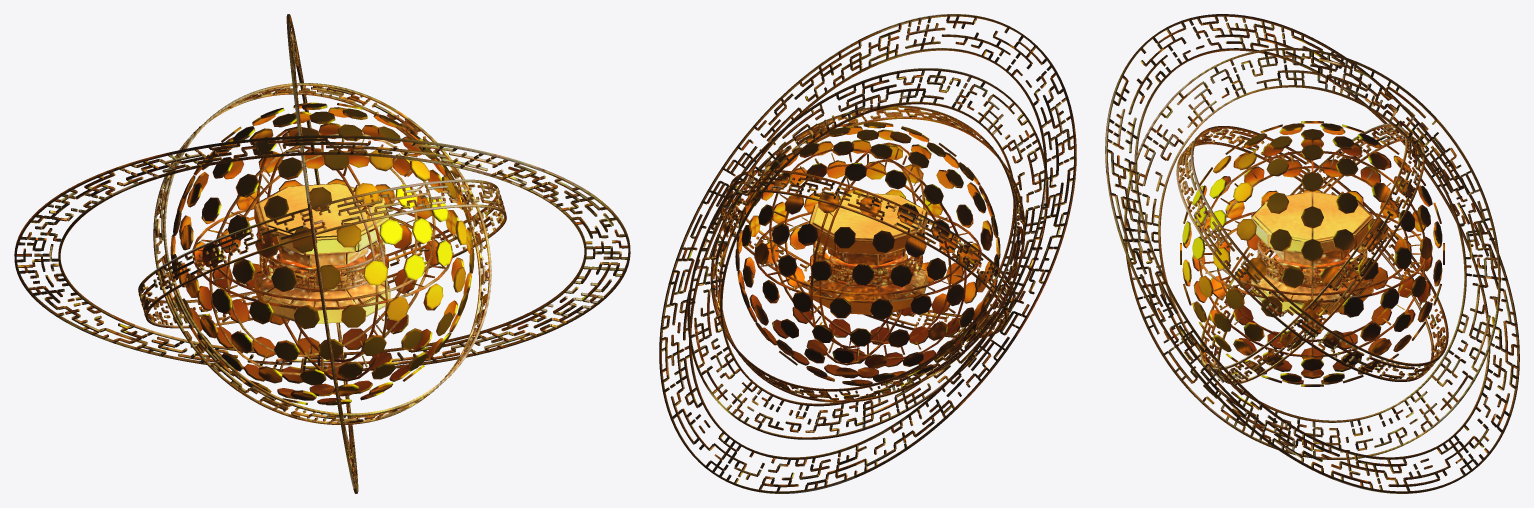
Rendered from celestail_hub.glb.
3 views of the same model, side by side, from view 1: azimuth 30°, elevation 25°; view 2: azimuth 150°, elevation 25°; view 3: azimuth 270°, elevation 25° (orthographic). The views are drawn at different scales.
Visible parts, largest first — view 1: 防护罩_Baked, 环2_Baked, 环3_Baked, 环4_Baked, 核心_Baked, 十字圆环_Baked, 环1_Baked, 核心环_Baked; view 2: 防护罩_Baked, 环2_Baked, 环1_Baked, 环4_Baked, 核心_Baked, 环3_Baked, 十字圆环_Baked, 核心环_Baked; view 3: 防护罩_Baked, 环2_Baked, 环1_Baked, 环4_Baked, 核心_Baked, 环3_Baked, 十字圆环_Baked, 核心环_Baked.
Boxes of the visible parts, box(x1,y1,x2,y2) form: 防护罩_Baked: box(170, 102, 474, 405); 环2_Baked: box(14, 135, 630, 371); 环3_Baked: box(153, 83, 491, 424); 环4_Baked: box(138, 179, 506, 328); 核心_Baked: box(254, 183, 390, 323); 十字圆环_Baked: box(192, 126, 452, 381); 环1_Baked: box(286, 14, 358, 493); 核心环_Baked: box(259, 239, 385, 291); 防护罩_Baked: box(735, 121, 1000, 386); 环2_Baked: box(659, 14, 1076, 493); 环1_Baked: box(687, 68, 1048, 439); 环4_Baked: box(710, 105, 1025, 402); 核心_Baked: box(808, 192, 927, 314); 环3_Baked: box(720, 169, 1015, 337); 十字圆环_Baked: box(754, 142, 981, 365); 核心环_Baked: box(813, 241, 922, 286); 防护罩_Baked: box(1180, 121, 1444, 386); 环2_Baked: box(1105, 14, 1519, 493); 环1_Baked: box(1124, 48, 1500, 459); 环4_Baked: box(1176, 126, 1448, 381); 核心_Baked: box(1251, 191, 1373, 314); 环3_Baked: box(1199, 123, 1425, 383); 十字圆环_Baked: box(1199, 140, 1425, 357); 核心环_Baked: box(1257, 238, 1367, 286).
Size of the model in its own units: 2.63 by 2.19 by 2.16.
Materials: 1 (1 with a texture image).
